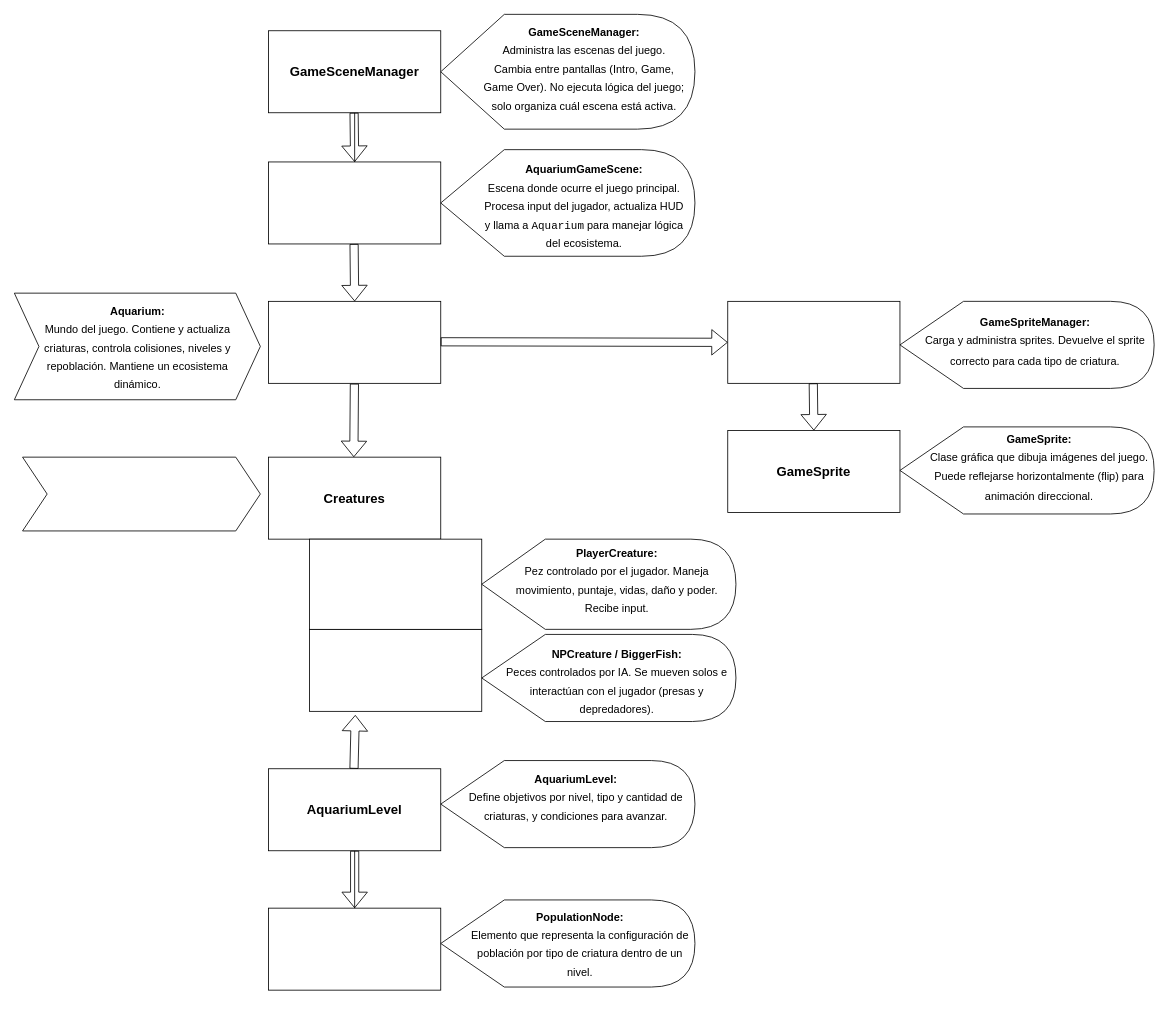
Some shapes in this 1169 by 1020 pixel diagram are drawn without their labels. Each missing label, with the centre of its shape:
"Aquarium" goes at (x=354, y=342).
"AquariumGameScene" goes at (x=354, y=202).
"Creatures: Contenedor donde viven todas las criaturas actuales en el Aquarium ." goes at (x=141, y=493).
"GameSpriteManager" goes at (x=813, y=342).
"NPCreature / BiggerFish" goes at (x=395, y=670).
"Player Creature" goes at (x=395, y=583).
"PopulationNode" goes at (x=354, y=948).
